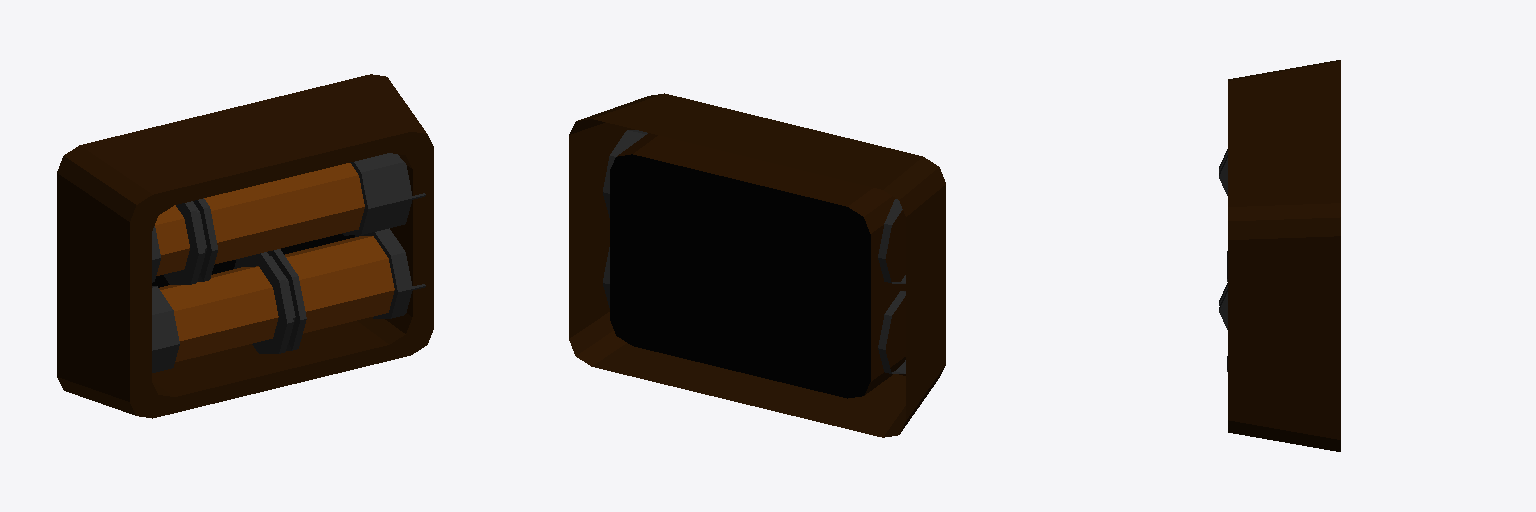
File: Details_Pipes_Small.obj
3 views of the same model, side by side, from view 1: azimuth 30°, elevation 25°; view 2: azimuth 150°, elevation 25°; view 3: azimuth 270°, elevation 25° (orthographic).
Visible parts, largest first — view 1: Details_Pipes_Small_Cube.057; view 2: Details_Pipes_Small_Cube.057; view 3: Details_Pipes_Small_Cube.057.
Boxes of the visible parts, x1,y1,x2,y2 form: Details_Pipes_Small_Cube.057: [57, 74, 433, 418]; Details_Pipes_Small_Cube.057: [569, 93, 945, 437]; Details_Pipes_Small_Cube.057: [1219, 60, 1340, 451].
Bounding box in the file's own units: 0.3504 × 0.2462 × 0.1102.